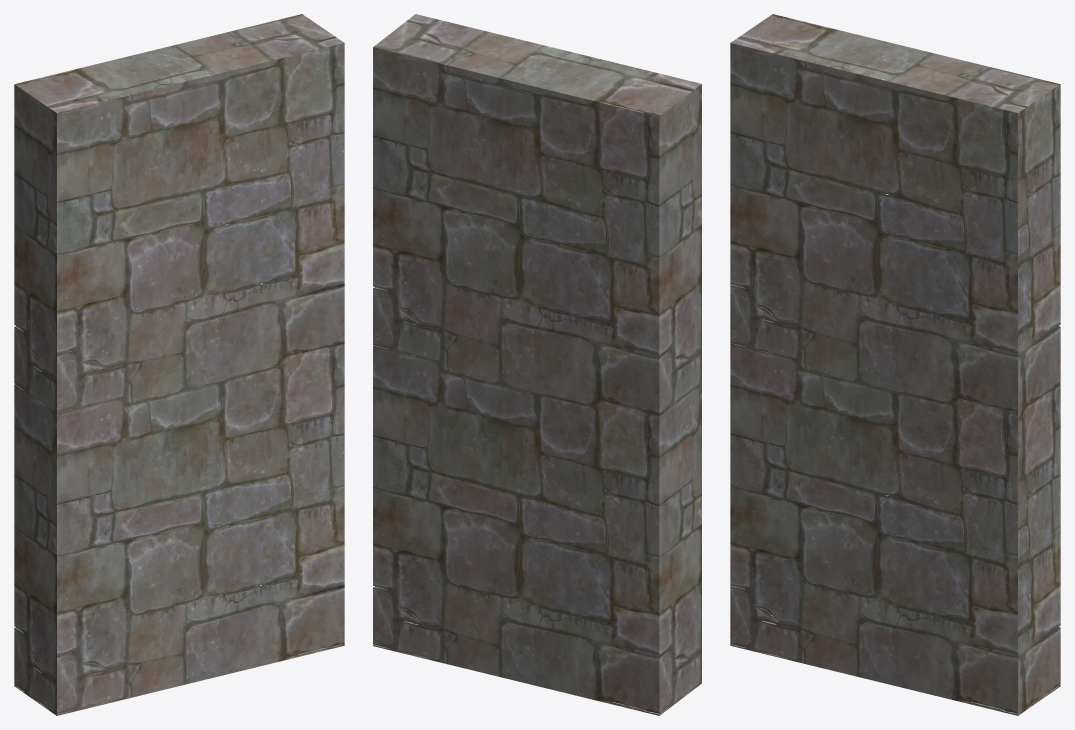
3 renders of one model, left to right at view 1: azimuth 30°, elevation 25°; view 2: azimuth 150°, elevation 25°; view 3: azimuth 330°, elevation 25°, orthographic.
Visible parts, largest first — view 1: SM_BB_T3_Wall_Large_LOD0; view 2: SM_BB_T3_Wall_Large_LOD0; view 3: SM_BB_T3_Wall_Large_LOD0.
Part boxes in pixels (box(x1,y1,x2,y2)): SM_BB_T3_Wall_Large_LOD0: box(14, 14, 344, 715); SM_BB_T3_Wall_Large_LOD0: box(373, 14, 701, 715); SM_BB_T3_Wall_Large_LOD0: box(730, 14, 1060, 715).
Bounding box in the file's own units: 1.5 × 3.01 × 0.3844.
